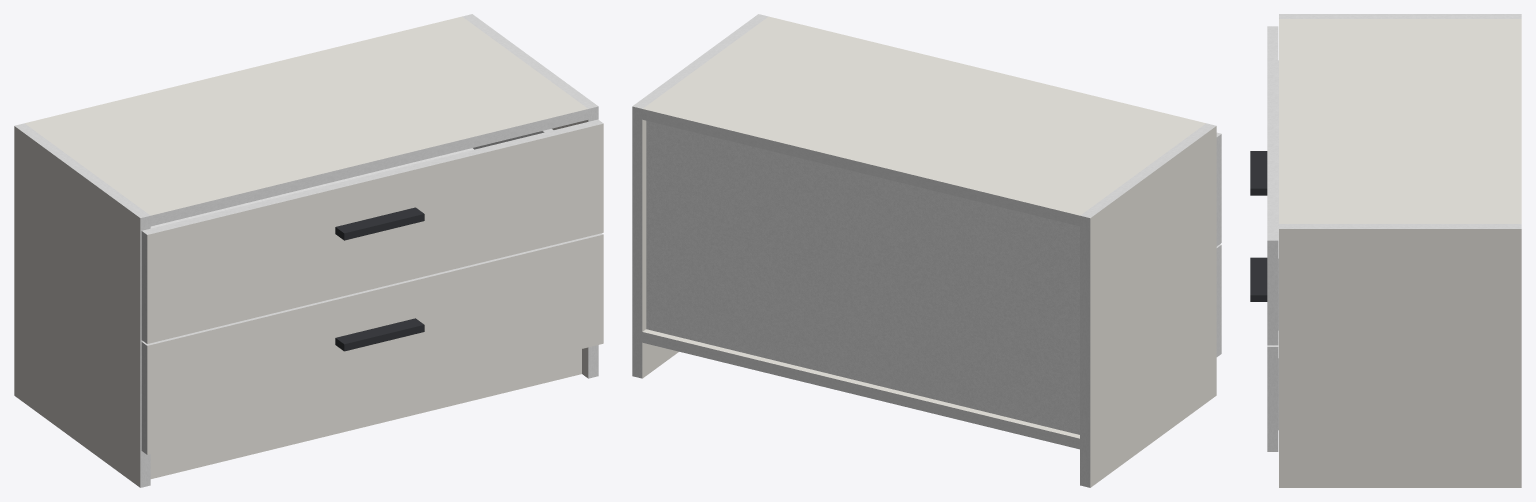
File: LIT-KCT-std.glb
The picture shows the model from 3 angles, left to right: view 1: azimuth 30°, elevation 25°; view 2: azimuth 150°, elevation 25°; view 3: azimuth 270°, elevation 25°; orthographic projection. The views are drawn at different scales.
Parts seen in each view (by area): view 1: top:pbr, d1-front:pbr, d2-front:pbr, side-l:pbr, plinth:pbr, top:sheet:eyJtIjoibWRmIiwic2lkZSI6ImVkZ2UtbG9uZyIsInNlZWQiOj, d2-front:sheet:eyJtIjoibWRmIiwic2lkZSI6ImVkZ2UtbG9uZyIsInNlZ, pull, side-l:sheet:eyJtIjoibWRmIiwic2lkZSI6ImVkZ2UtZW5kIiwic2VlZCI, side-r:sheet:eyJtIjoibWRmIiwic2lkZSI6ImVkZ2UtZW5kIiwic2VlZCI, d1-front:sheet:eyJtIjoibWRmIiwic2lkZSI6ImVkZ2UtbG9uZyIsInNlZ, side-l:sheet:eyJtIjoibWRmIiwic2lkZSI6ImVkZ2UtbG9uZyIsInNlZWQ (+3 smaller); view 2: back:sheet:eyJtIjoibWRmIiwic2lkZSI6ImZhY2UiLCJzZWVkIjo0LCJ0a, top:pbr, side-l:pbr, top:sheet:eyJtIjoibWRmIiwic2lkZSI6ImVkZ2UtbG9uZyIsInNlZWQiOj, bottom:sheet:eyJtIjoibWRmIiwic2lkZSI6ImVkZ2UtbG9uZyIsInNlZWQ, side-r:sheet:eyJtIjoibWRmIiwic2lkZSI6ImVkZ2UtbG9uZyIsInNlZWQ, side-l:sheet:eyJtIjoibWRmIiwic2lkZSI6ImVkZ2UtbG9uZyIsInNlZWQ, bottom:pbr, side-r:pbr, side-r:sheet:eyJtIjoibWRmIiwic2lkZSI6ImVkZ2UtZW5kIiwic2VlZCI, side-l:sheet:eyJtIjoibWRmIiwic2lkZSI6ImVkZ2UtZW5kIiwic2VlZCI, d2-front:sheet:eyJtIjoibWRmIiwic2lkZSI6ImVkZ2UtZW5kIiwic2VlZ (+1 smaller); view 3: side-r:pbr, top:pbr, d2-front:sheet:eyJtIjoibWRmIiwic2lkZSI6ImVkZ2UtbG9uZyIsInNlZ, pull, d2-front:sheet:eyJtIjoibWRmIiwic2lkZSI6ImVkZ2UtZW5kIiwic2VlZ, d1-front:sheet:eyJtIjoibWRmIiwic2lkZSI6ImVkZ2UtZW5kIiwic2VlZ, side-l:sheet:eyJtIjoibWRmIiwic2lkZSI6ImVkZ2UtZW5kIiwic2VlZCI, side-r:sheet:eyJtIjoibWRmIiwic2lkZSI6ImVkZ2UtZW5kIiwic2VlZCI.
Part boxes in pixels (x1=…): top:pbr: x1=25, y1=16, x2=587, y2=215; d1-front:pbr: x1=147, y1=234, x2=603, y2=454; d2-front:pbr: x1=147, y1=123, x2=603, y2=343; side-l:pbr: x1=14, y1=126, x2=140, y2=487; plinth:pbr: x1=150, y1=349, x2=581, y2=478; top:sheet:eyJtIjoibWRmIiwic2lkZSI6ImVkZ2UtbG9uZyIsInNlZWQiOj: x1=150, y1=109, x2=588, y2=226; d2-front:sheet:eyJtIjoibWRmIiwic2lkZSI6ImVkZ2UtbG9uZyIsInNlZ: x1=142, y1=119, x2=603, y2=234; pull: x1=335, y1=207, x2=424, y2=351; side-l:sheet:eyJtIjoibWRmIiwic2lkZSI6ImVkZ2UtZW5kIiwic2VlZCI: x1=14, y1=123, x2=150, y2=217; side-r:sheet:eyJtIjoibWRmIiwic2lkZSI6ImVkZ2UtZW5kIiwic2VlZCI: x1=462, y1=14, x2=598, y2=108; d1-front:sheet:eyJtIjoibWRmIiwic2lkZSI6ImVkZ2UtbG9uZyIsInNlZ: x1=142, y1=233, x2=603, y2=345; side-l:sheet:eyJtIjoibWRmIiwic2lkZSI6ImVkZ2UtbG9uZyIsInNlZWQ: x1=140, y1=216, x2=150, y2=487; back:sheet:eyJtIjoibWRmIiwic2lkZSI6ImZhY2UiLCJzZWVkIjo0LCJ0a: x1=646, y1=120, x2=1079, y2=434; top:pbr: x1=643, y1=16, x2=1205, y2=215; side-l:pbr: x1=1090, y1=126, x2=1216, y2=487; top:sheet:eyJtIjoibWRmIiwic2lkZSI6ImVkZ2UtbG9uZyIsInNlZWQiOj: x1=642, y1=109, x2=1079, y2=226; bottom:sheet:eyJtIjoibWRmIiwic2lkZSI6ImVkZ2UtbG9uZyIsInNlZWQ: x1=642, y1=332, x2=1079, y2=449; side-r:sheet:eyJtIjoibWRmIiwic2lkZSI6ImVkZ2UtbG9uZyIsInNlZWQ: x1=632, y1=106, x2=642, y2=378; side-l:sheet:eyJtIjoibWRmIiwic2lkZSI6ImVkZ2UtbG9uZyIsInNlZWQ: x1=1080, y1=215, x2=1090, y2=487; bottom:pbr: x1=643, y1=329, x2=1079, y2=438; side-r:pbr: x1=642, y1=119, x2=678, y2=378; side-r:sheet:eyJtIjoibWRmIiwic2lkZSI6ImVkZ2UtZW5kIiwic2VlZCI: x1=632, y1=14, x2=768, y2=108; side-l:sheet:eyJtIjoibWRmIiwic2lkZSI6ImVkZ2UtZW5kIiwic2VlZCI: x1=1080, y1=123, x2=1216, y2=218; d2-front:sheet:eyJtIjoibWRmIiwic2lkZSI6ImVkZ2UtZW5kIiwic2VlZ: x1=1216, y1=134, x2=1221, y2=246; side-r:pbr: x1=1279, y1=229, x2=1521, y2=487; top:pbr: x1=1279, y1=19, x2=1521, y2=223; d2-front:sheet:eyJtIjoibWRmIiwic2lkZSI6ImVkZ2UtbG9uZyIsInNlZ: x1=1267, y1=26, x2=1278, y2=240; pull: x1=1250, y1=151, x2=1267, y2=301; d2-front:sheet:eyJtIjoibWRmIiwic2lkZSI6ImVkZ2UtZW5kIiwic2VlZ: x1=1267, y1=240, x2=1278, y2=345; d1-front:sheet:eyJtIjoibWRmIiwic2lkZSI6ImVkZ2UtZW5kIiwic2VlZ: x1=1267, y1=347, x2=1278, y2=451; side-l:sheet:eyJtIjoibWRmIiwic2lkZSI6ImVkZ2UtZW5kIiwic2VlZCI: x1=1279, y1=14, x2=1521, y2=18; side-r:sheet:eyJtIjoibWRmIiwic2lkZSI6ImVkZ2UtZW5kIiwic2VlZCI: x1=1279, y1=224, x2=1521, y2=228.
Bounding box in the file's own units: 0.8 × 0.45 × 0.4267.
Materials: 55 (47 with a texture image).
